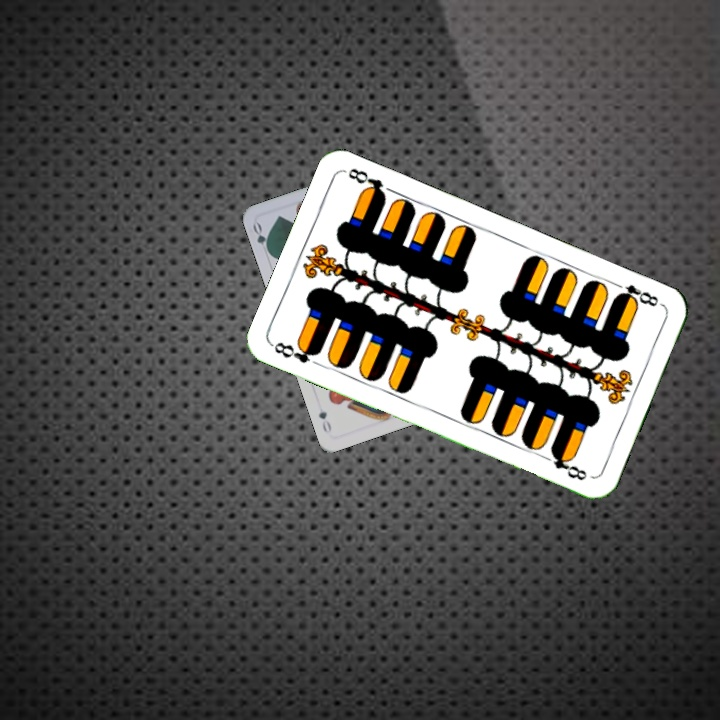E8: (609, 278, 661, 310), (269, 337, 323, 366)
GO: (248, 219, 273, 259)
